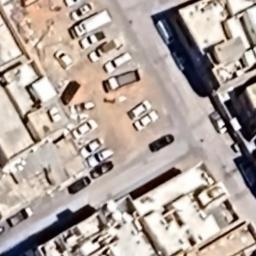SUV: (101, 49, 133, 75), (84, 146, 116, 168), (126, 98, 154, 120), (52, 48, 75, 71)
pickup: (86, 42, 118, 64), (76, 30, 108, 50)
sedan: (64, 0, 96, 22), (129, 109, 160, 131), (70, 118, 99, 139), (64, 175, 93, 196), (79, 137, 105, 159), (88, 162, 118, 178)
truck: (65, 6, 116, 38), (100, 68, 142, 96)
unknown: (4, 203, 34, 232), (148, 133, 176, 154)
